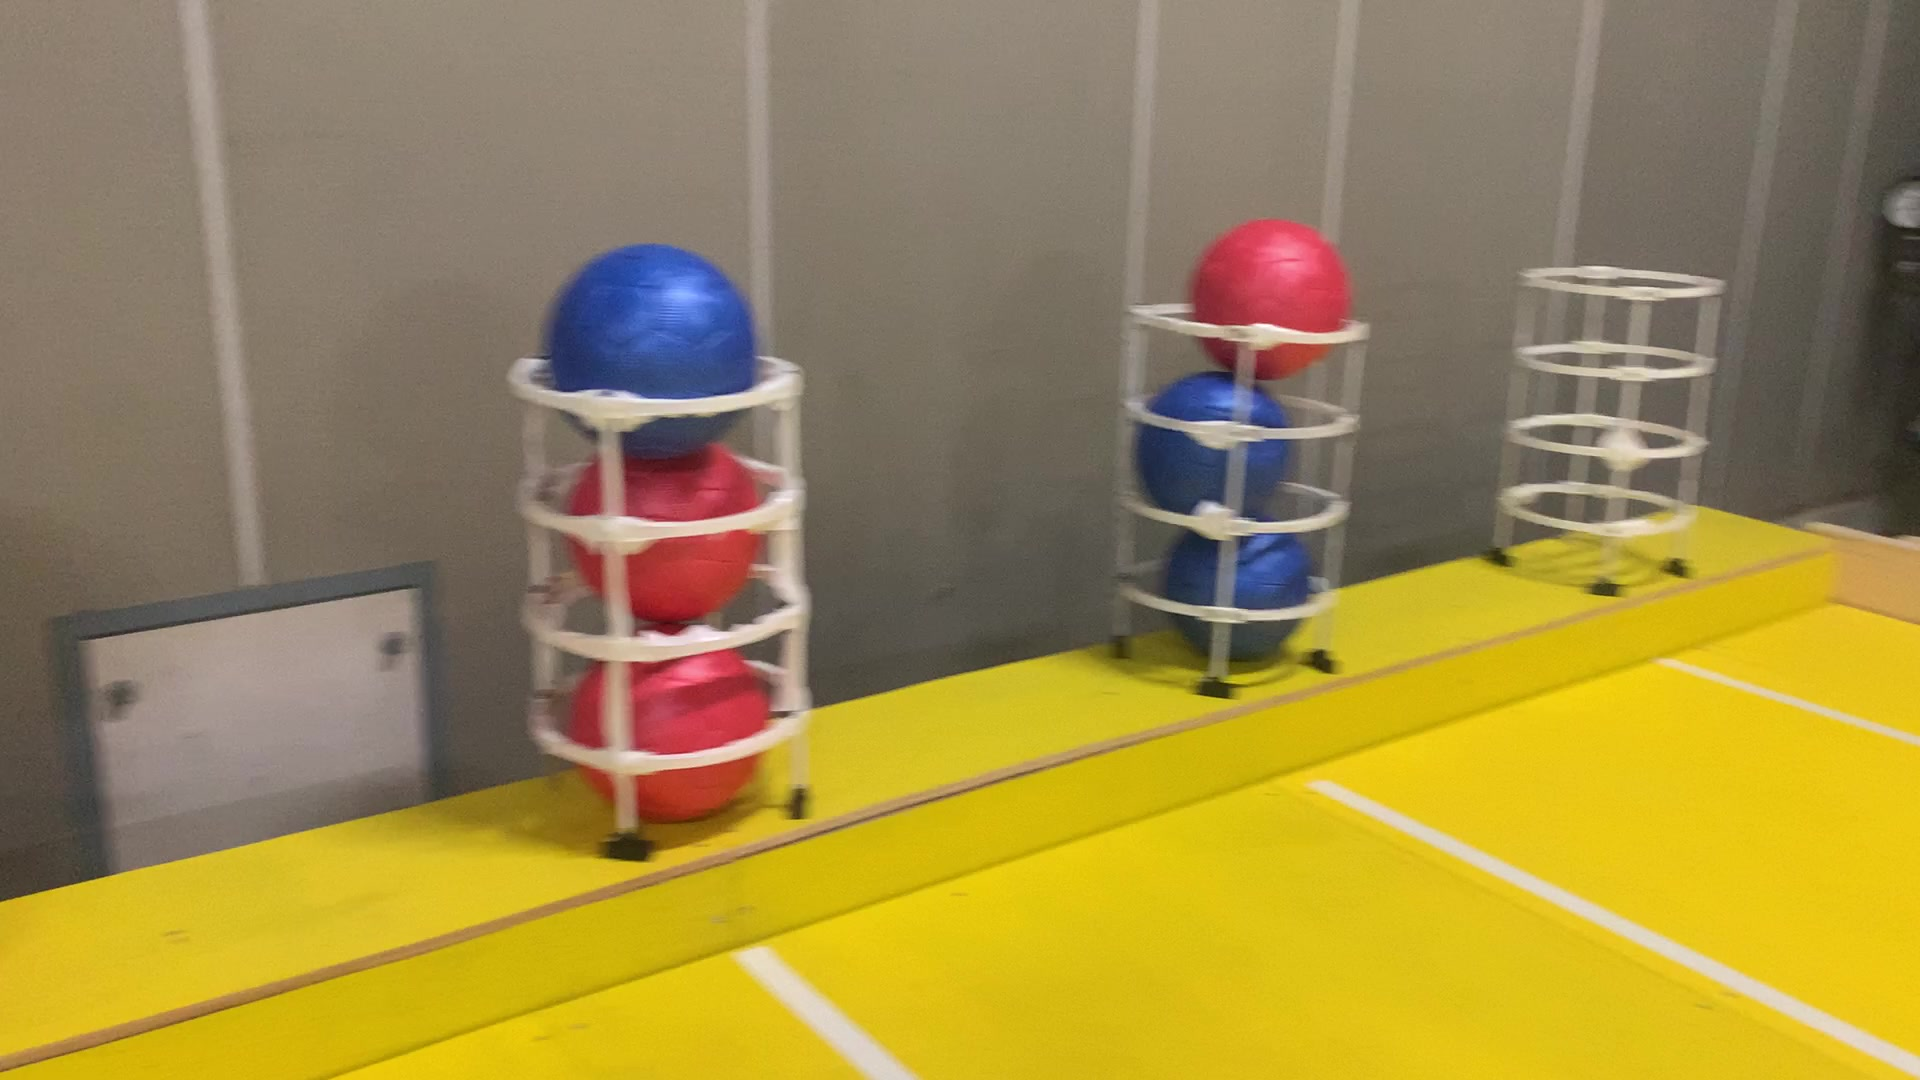blue: (539, 239, 762, 462), (1129, 371, 1295, 533), (1163, 501, 1317, 662)
red: (571, 624, 781, 825), (571, 434, 762, 625), (1189, 214, 1352, 386)
